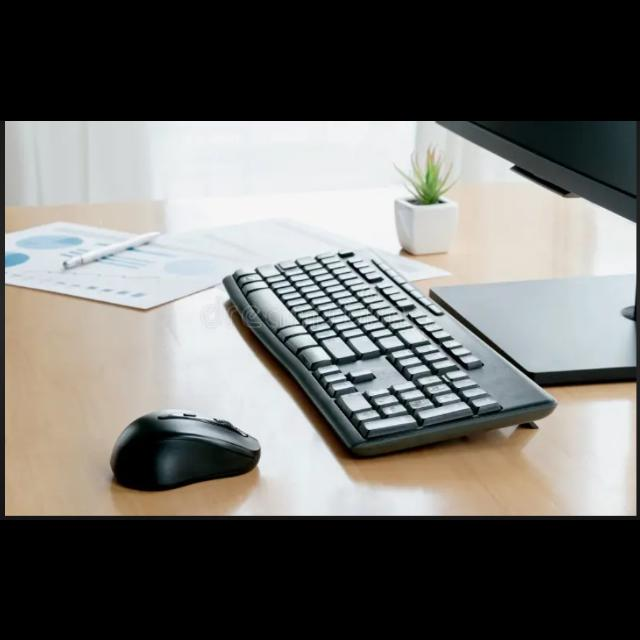Computer-Keyboard: (222, 249, 558, 459)
